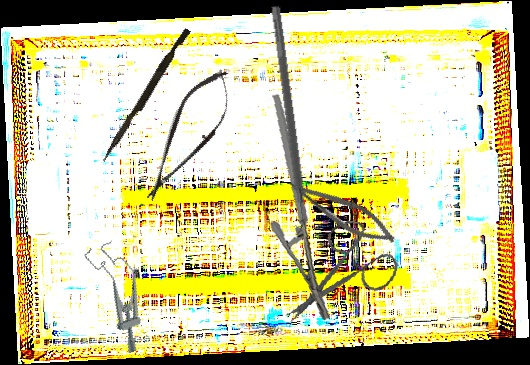Iris Scissors: (283, 211, 405, 342)
Micro Scissor: (130, 60, 246, 212), (281, 174, 402, 251)
Needle Holder: (245, 93, 359, 323)
Pusher: (101, 25, 191, 166)
Spatula Surgical: (260, 5, 313, 239)
Speculum: (82, 236, 160, 357)
